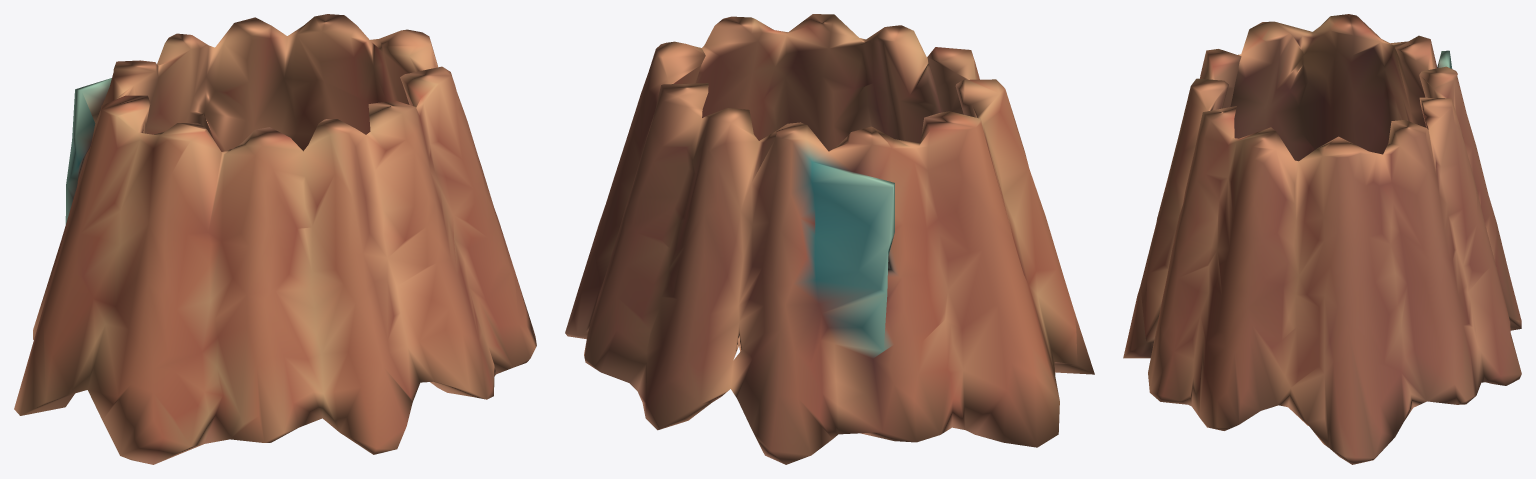
Rendered from hero_skirt.glb.
3 renders of one model, left to right at view 1: azimuth 30°, elevation 25°; view 2: azimuth 150°, elevation 25°; view 3: azimuth 270°, elevation 25°, orthographic. The views are drawn at different scales.
Visible parts, largest first — view 1: geometry_0; view 2: geometry_0; view 3: geometry_0.
Boxes of the visible parts, x1,y1,x2,y2 form: geometry_0: (14, 14, 536, 464); geometry_0: (565, 14, 1094, 464); geometry_0: (1123, 14, 1521, 464).
Size of the model in its own units: 0.672 by 0.3935 by 0.5201.
